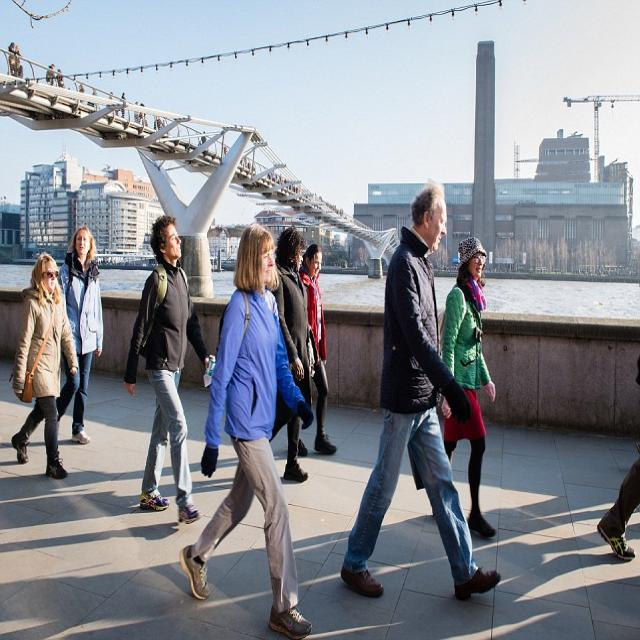body: (0, 346, 640, 639), (337, 175, 502, 605), (174, 219, 315, 639), (42, 59, 372, 233), (121, 213, 219, 528), (440, 235, 497, 541), (6, 249, 80, 481), (267, 223, 319, 484), (53, 224, 105, 445), (296, 241, 339, 458), (12, 43, 22, 78), (6, 40, 18, 60)
